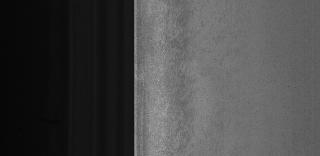silk spot: (161, 13, 199, 144)
